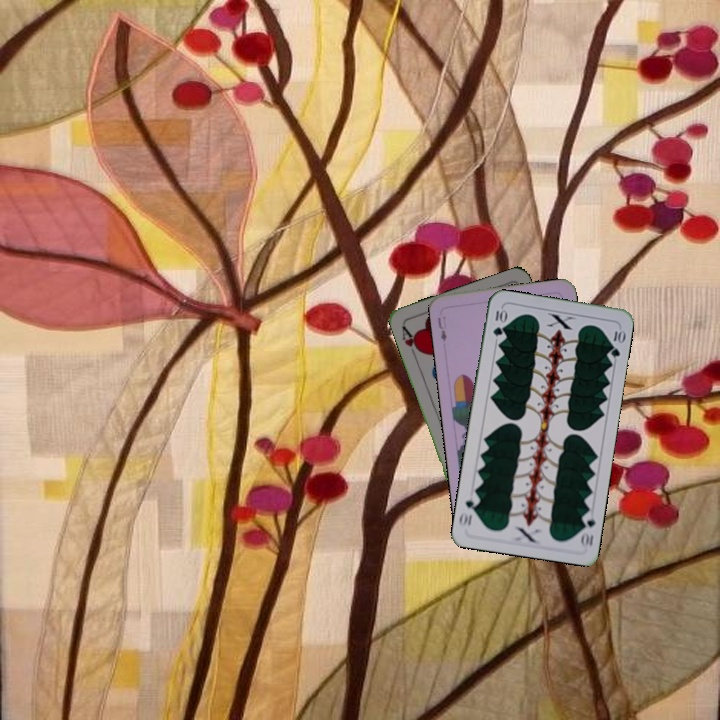EU: (434, 313, 449, 344)
G10: (577, 508, 598, 549), (489, 305, 509, 339)
HA: (397, 322, 424, 360)
